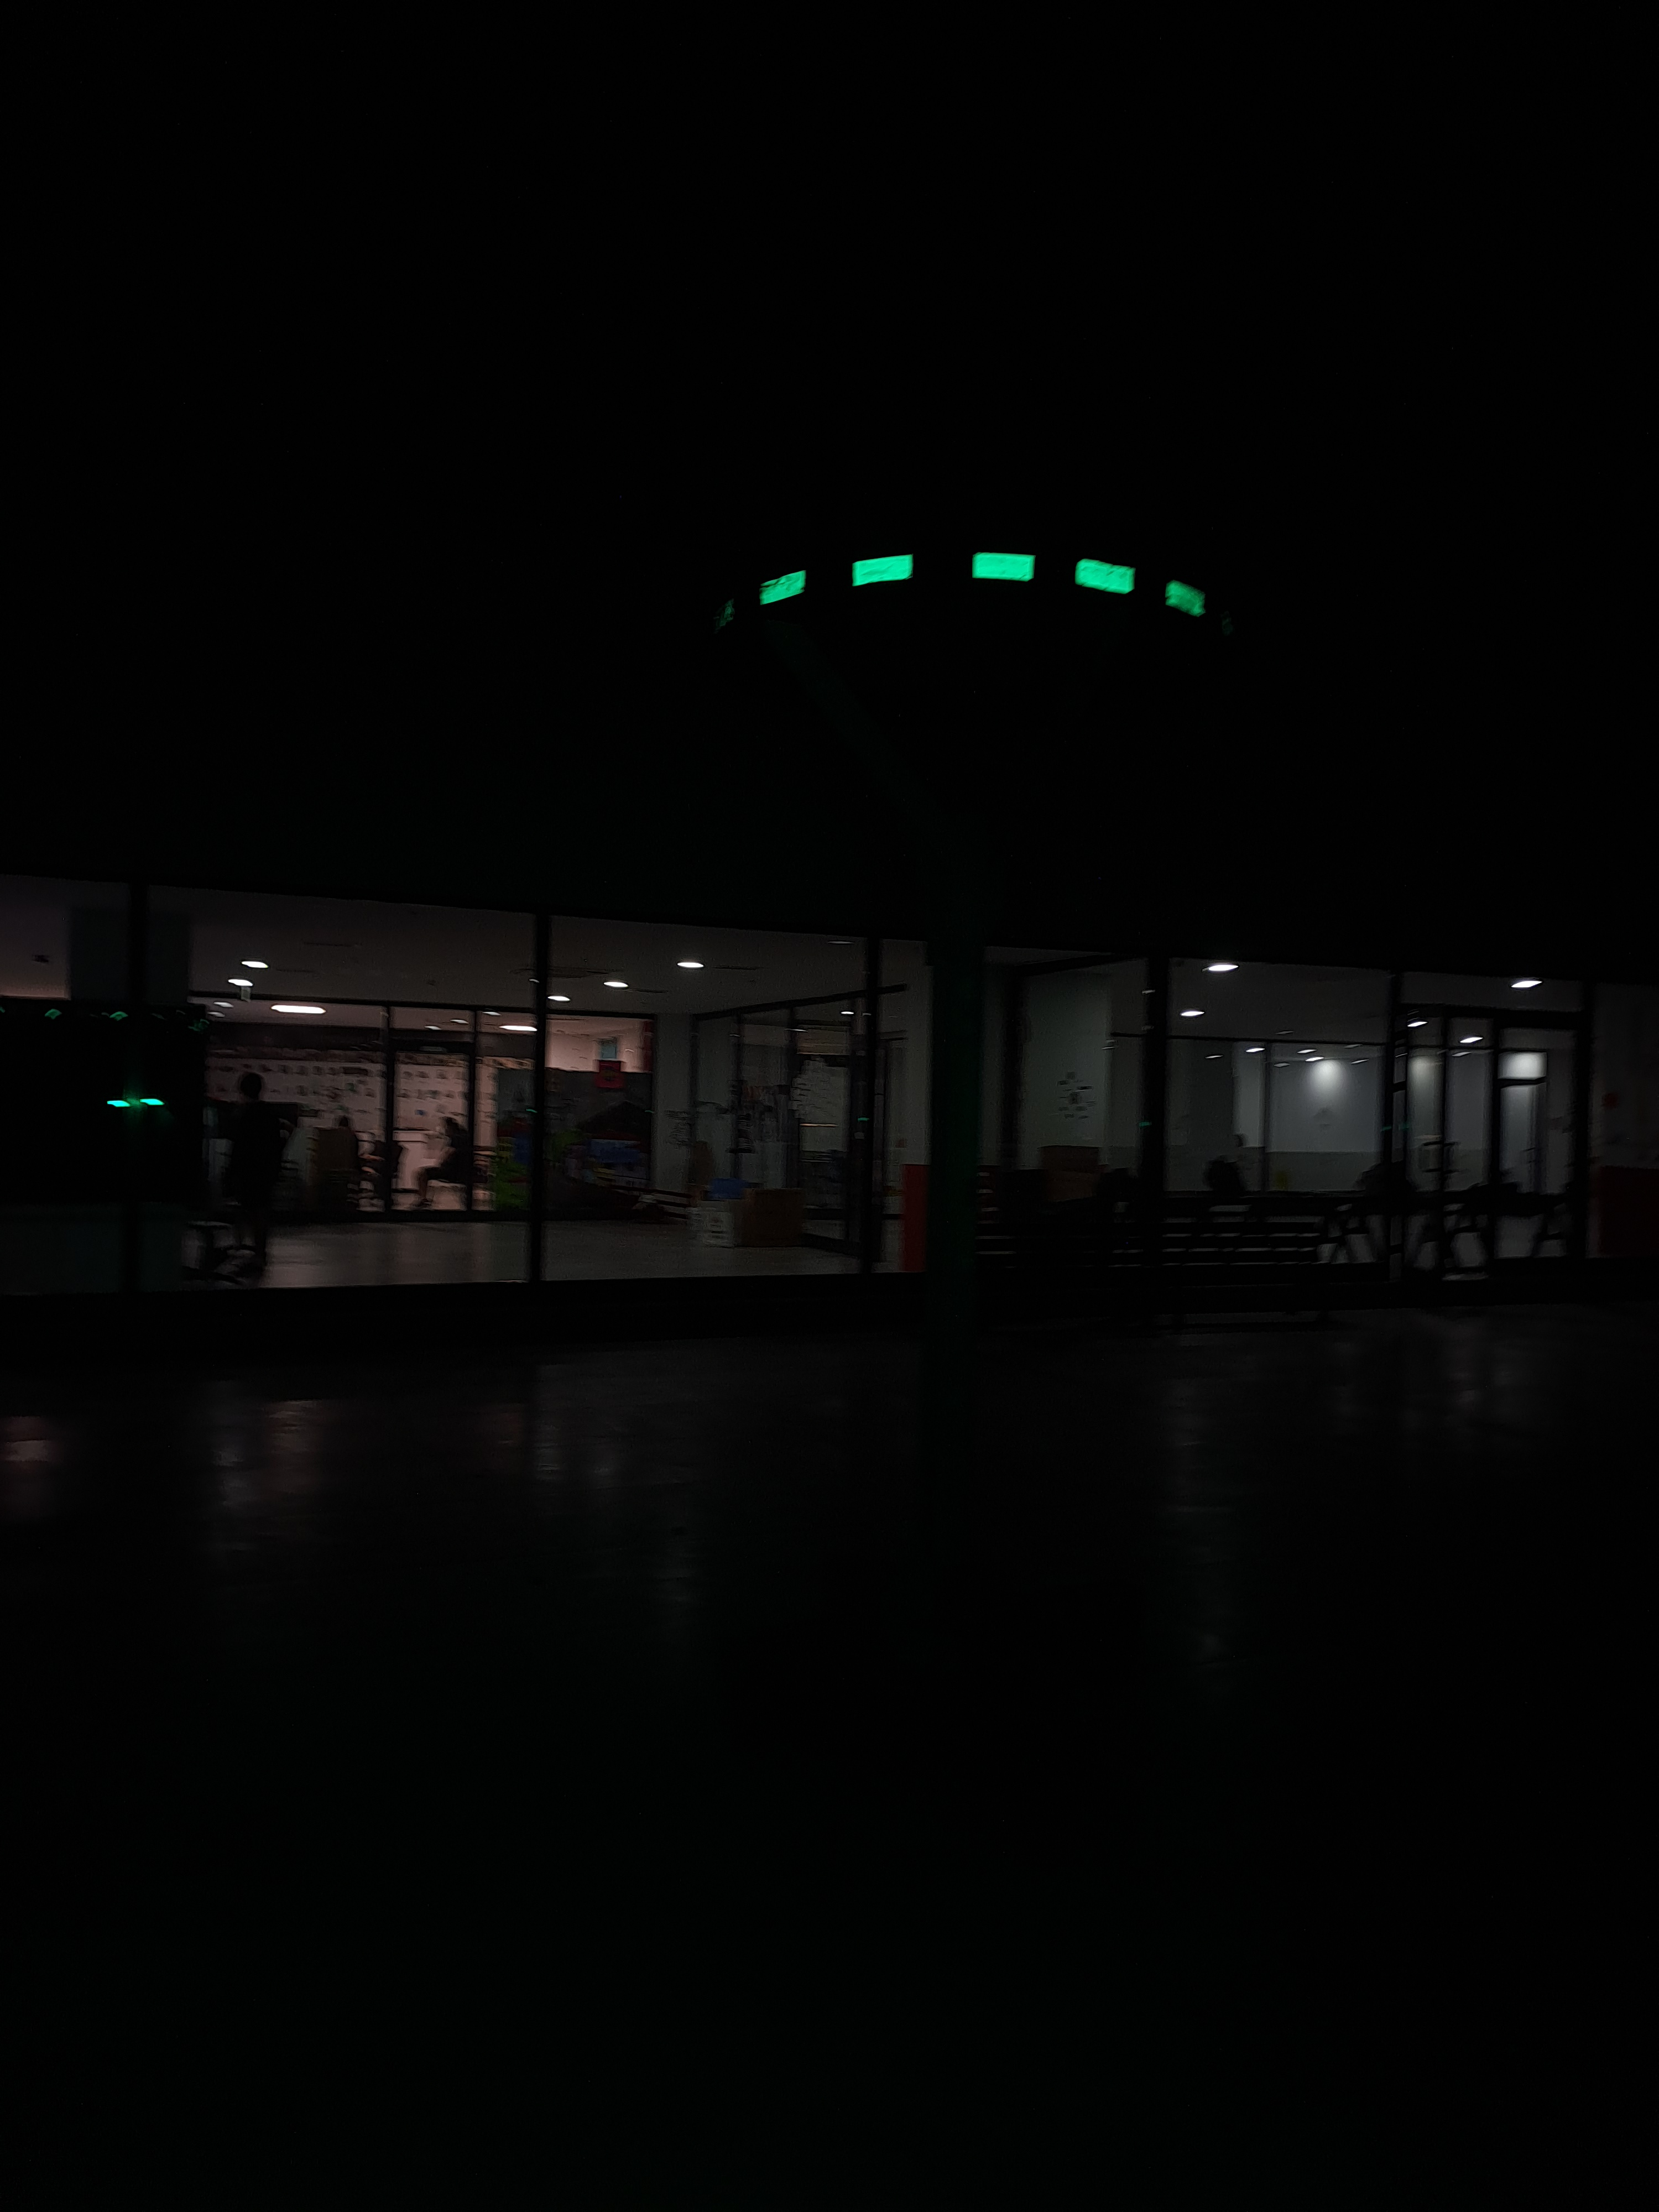hoop: (751, 535, 1211, 636)
